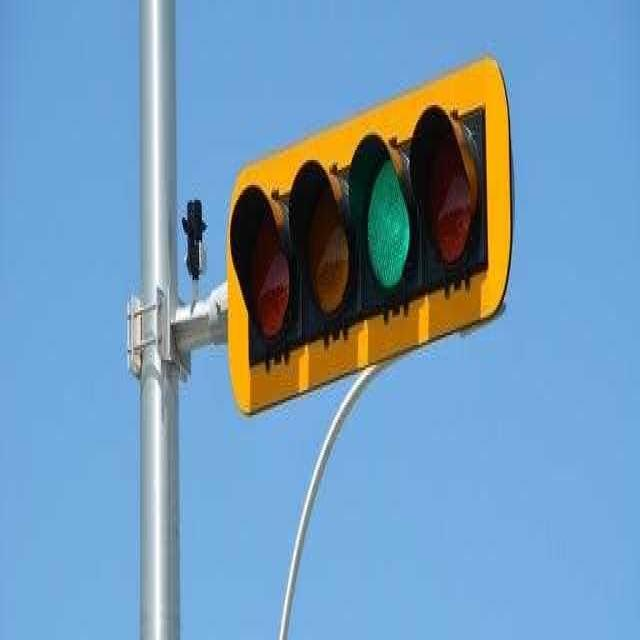Traffic Light -Off-: (220, 48, 515, 426)
